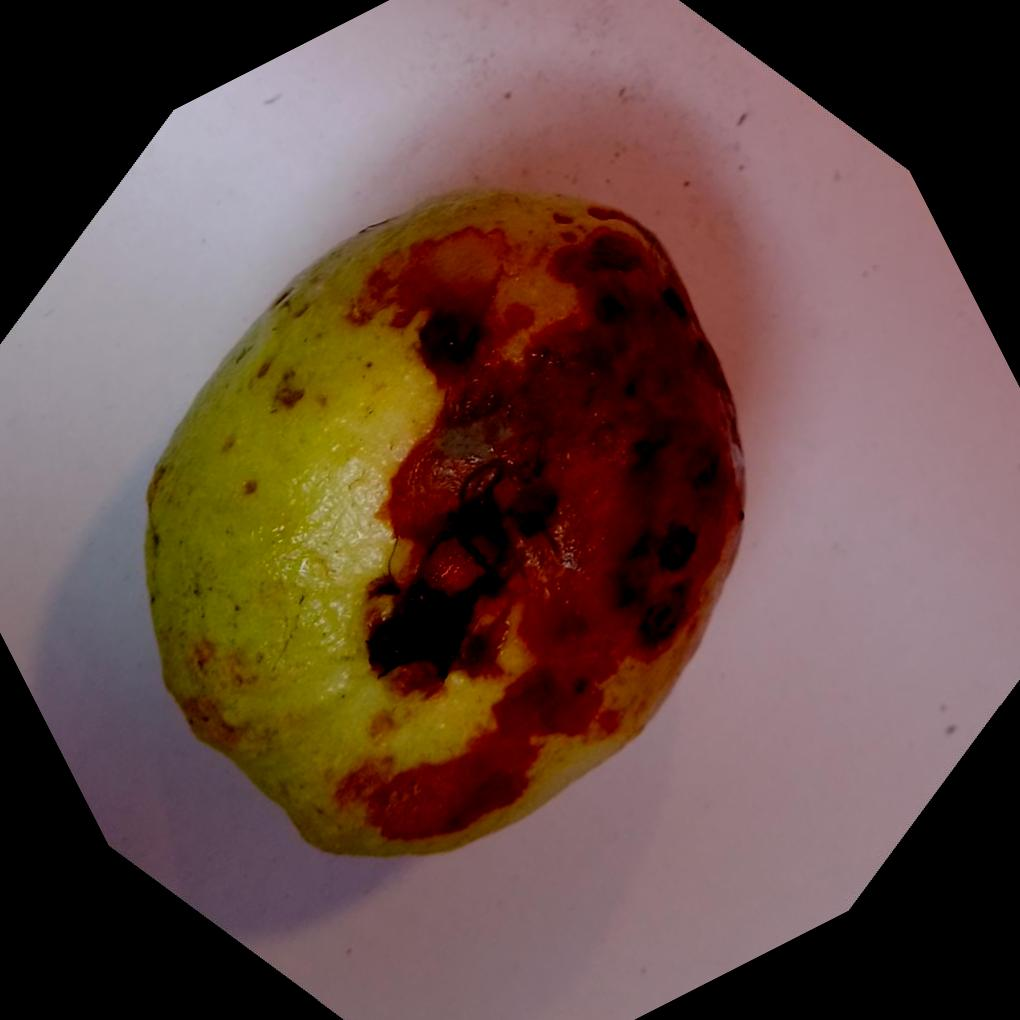FreshOrange: (144, 188, 751, 864)
